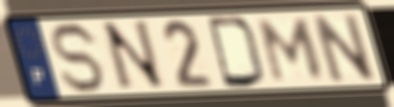2: (161, 18, 216, 89)
D: (204, 15, 269, 90)
M: (256, 17, 327, 85)
N: (98, 18, 170, 94), (308, 10, 379, 86)
S: (50, 20, 108, 96)
